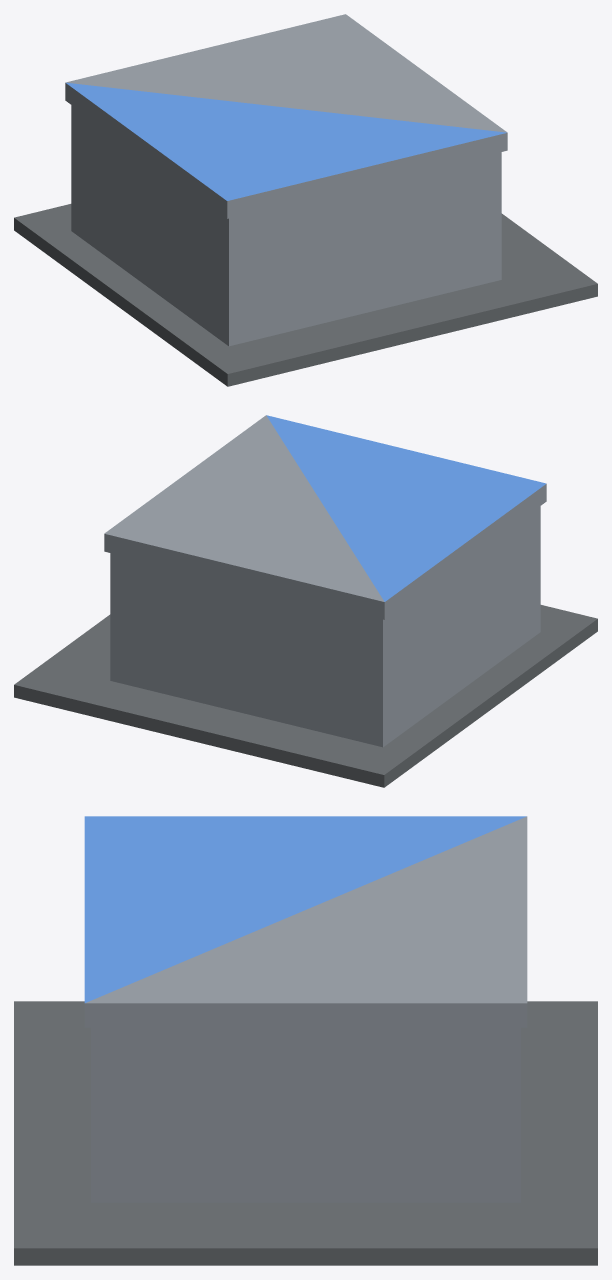
The model's file is veyran_fortified_bunker.glb.
3 renders of one model, top to bottom at view 1: azimuth 30°, elevation 25°; view 2: azimuth 150°, elevation 25°; view 3: azimuth 270°, elevation 25°, orthographic. The views are drawn at different scales.
Parts seen in each view (by area): view 1: hull; view 2: hull; view 3: hull.
Boxes of the visible parts, <box> form: hull: <box>14,14,597,386</box>; hull: <box>14,415,597,787</box>; hull: <box>14,816,597,1265</box>.
Size of the model in its own units: 7.6 by 3.15 by 7.6.
